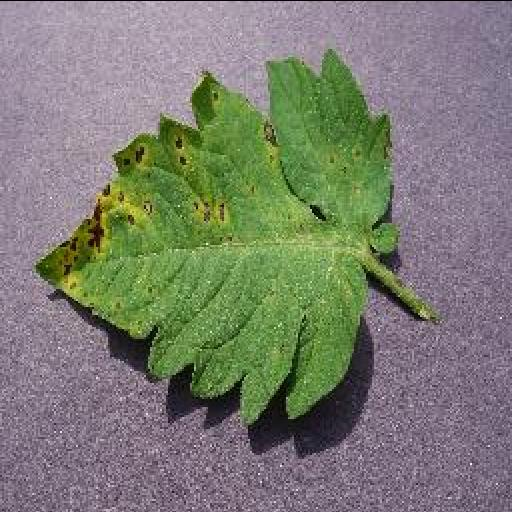disease_tomato: (32, 49, 402, 421)
